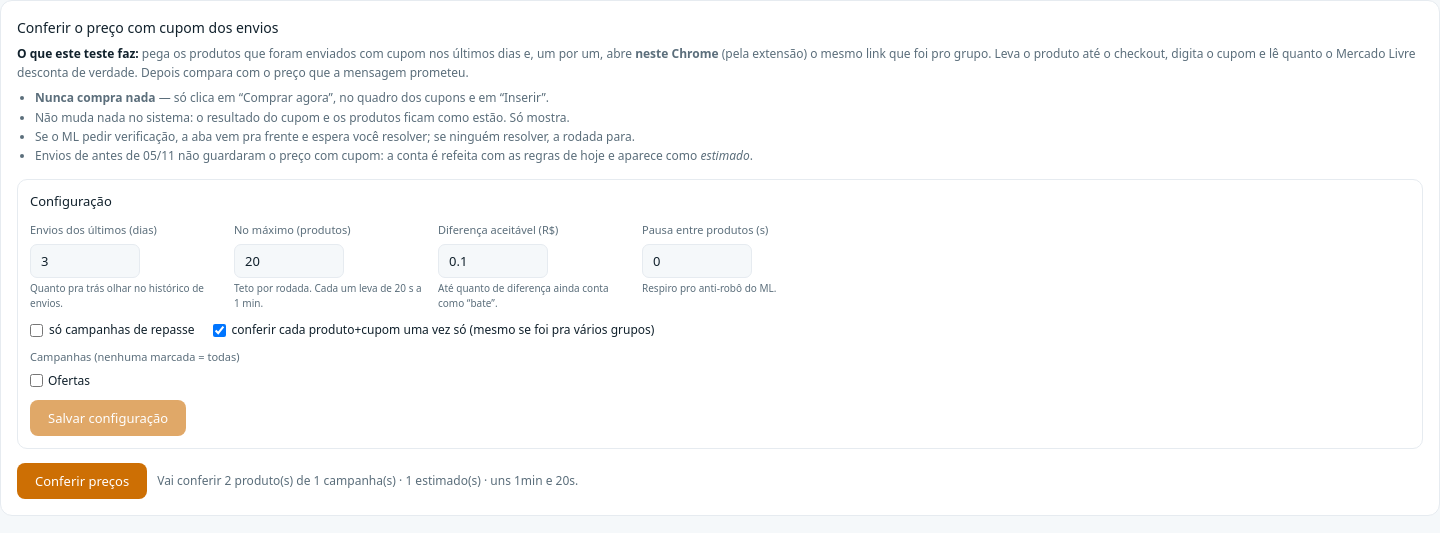
Test: Cupons Teste › salvar a configuração manda só o que mudou (pausa em ms)
The image size is (1440, 533).
Replace the text in the number field labelled "Pausa entre produtos (s)" with "20" at (697, 261), box [642,244,752,278]
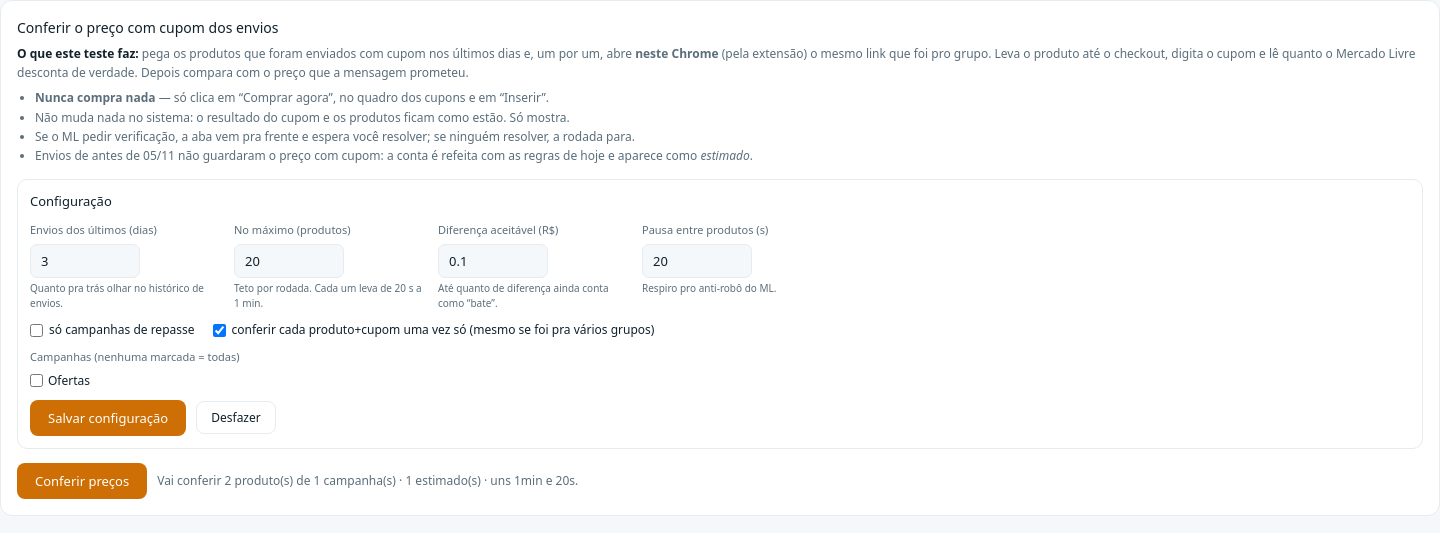
Click the button "Salvar configuração" at (108, 418), box [30,400,186,436]
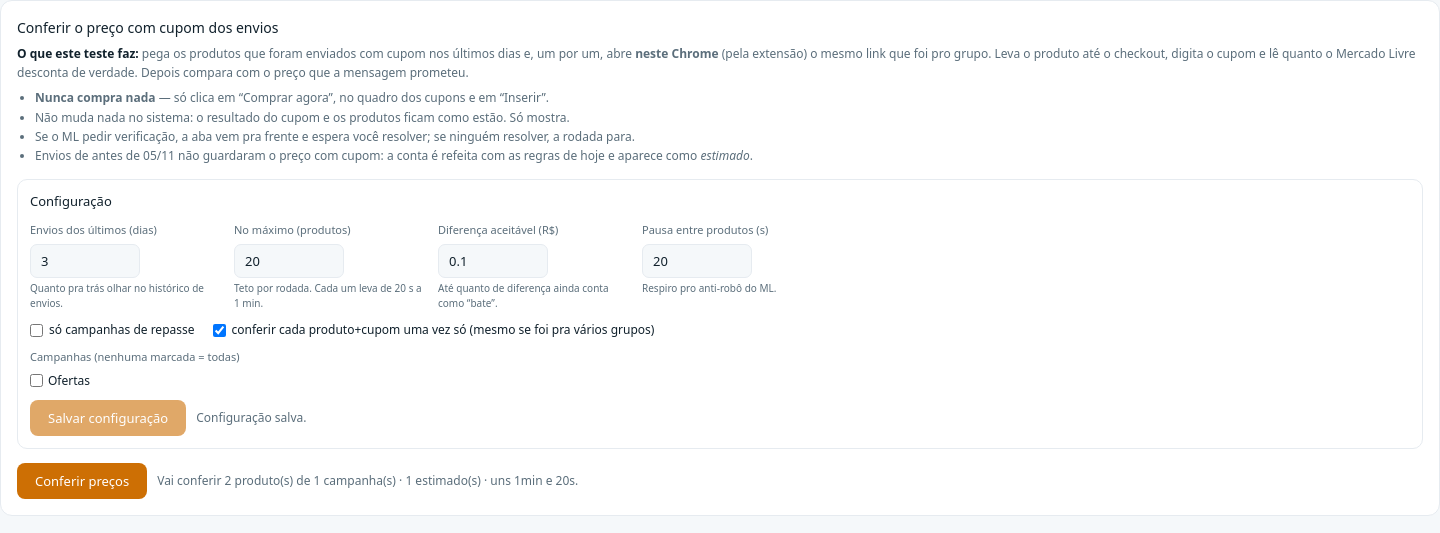
Expected: the text "Configuração salva." is shown, [196,409,306,427]
